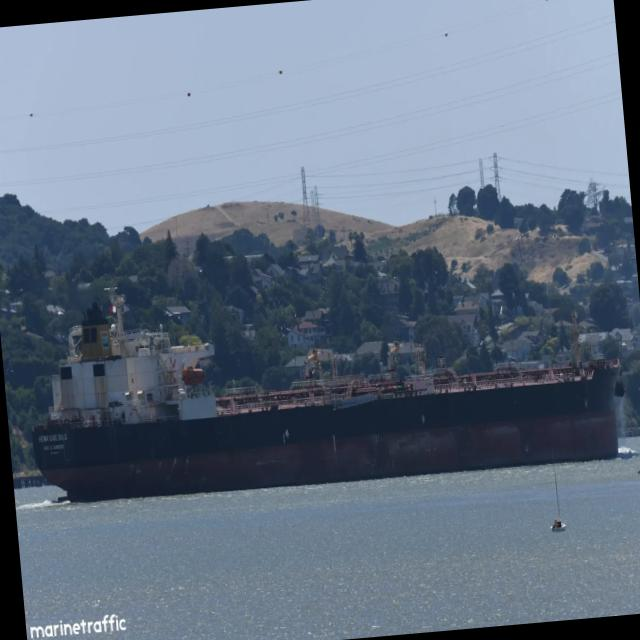Tanker: (32, 288, 625, 500)
